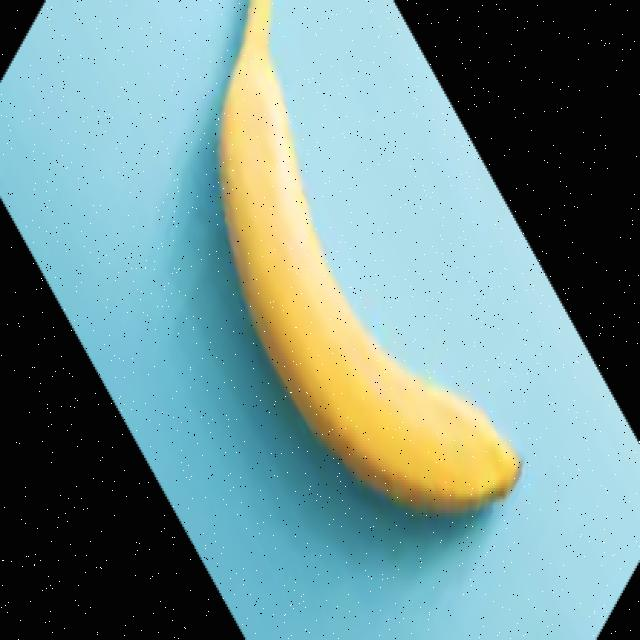god quality banana: (219, 3, 521, 512)
